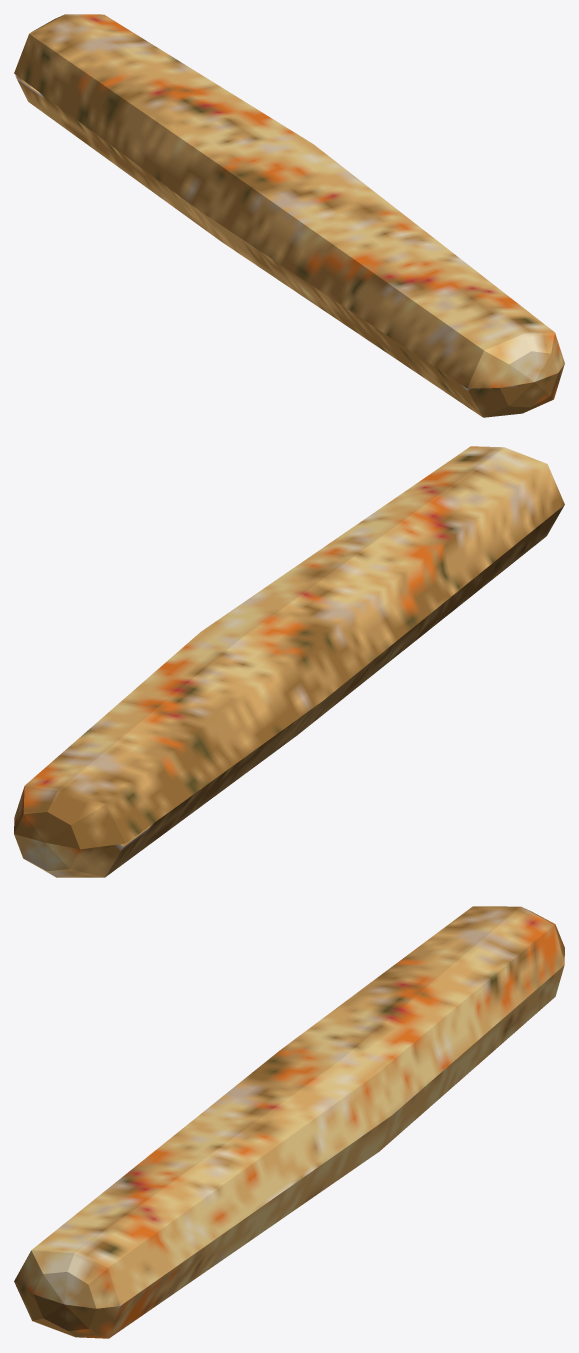
The model's file is SM_Dungeon_Food_Baguette.fbx.
3 views of the same model, one above another, from view 1: azimuth 30°, elevation 25°; view 2: azimuth 150°, elevation 25°; view 3: azimuth 330°, elevation 25° (orthographic). The views are drawn at different scales.
Visible parts, largest first — view 1: SM_Dungeon_Food_Baguette; view 2: SM_Dungeon_Food_Baguette; view 3: SM_Dungeon_Food_Baguette.
Part boxes in pixels (x1,y1,x2,y2): SM_Dungeon_Food_Baguette: (14,14,564,417); SM_Dungeon_Food_Baguette: (14,446,564,877); SM_Dungeon_Food_Baguette: (14,906,564,1338).
Size of the model in its own units: 12.63 by 7.75 by 79.39.
